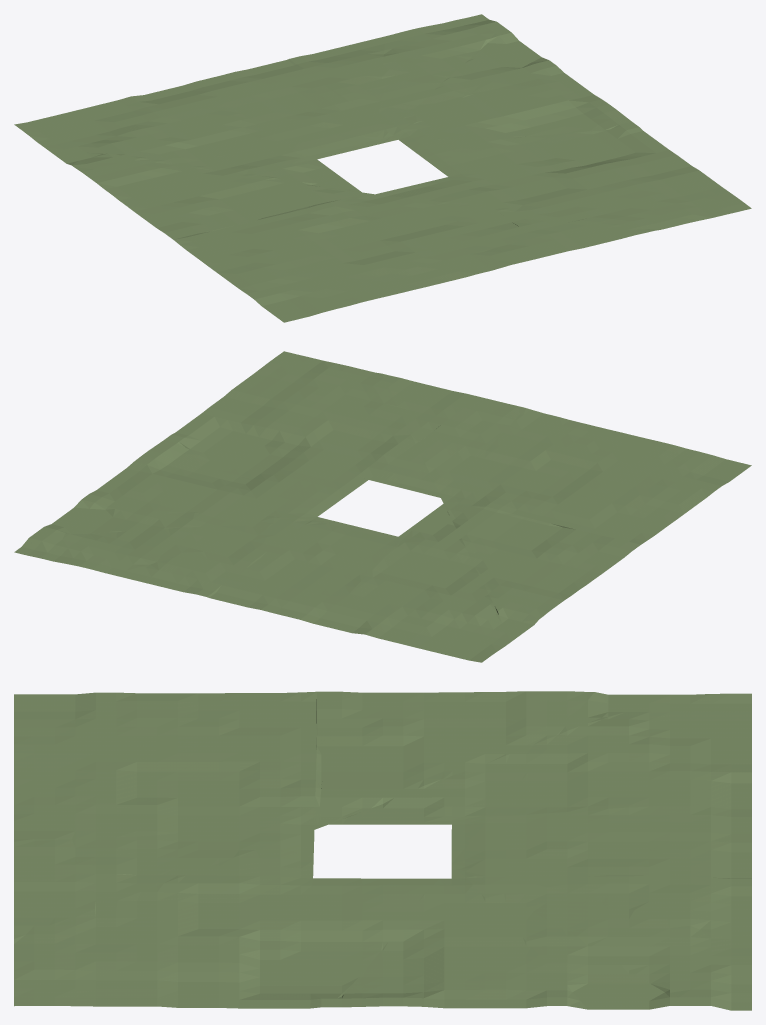
3 views of the same model, one above another, from view 1: azimuth 30°, elevation 25°; view 2: azimuth 150°, elevation 25°; view 3: azimuth 270°, elevation 25° (orthographic). The views are drawn at different scales.
Parts seen in each view (by area): view 1: surface_context-terrain; view 2: surface_context-terrain; view 3: surface_context-terrain.
Boxes of the visible parts, box(x1,y1,x2,y2) form: surface_context-terrain: box(14, 14, 751, 322); surface_context-terrain: box(14, 351, 751, 662); surface_context-terrain: box(14, 691, 751, 1010).
Size of the model in its own units: 720 by 9.49 by 720.
1 material, 1 textured.
